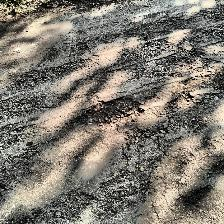pothole: (80, 95, 144, 127)
